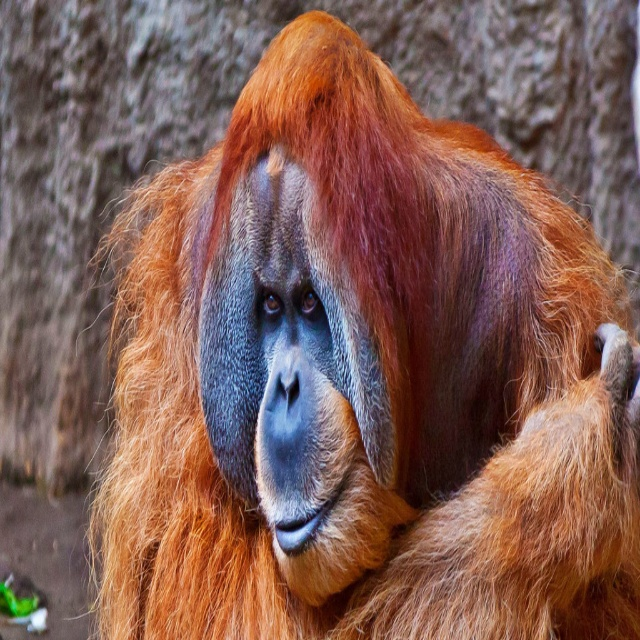Monkey: (101, 10, 640, 640)
